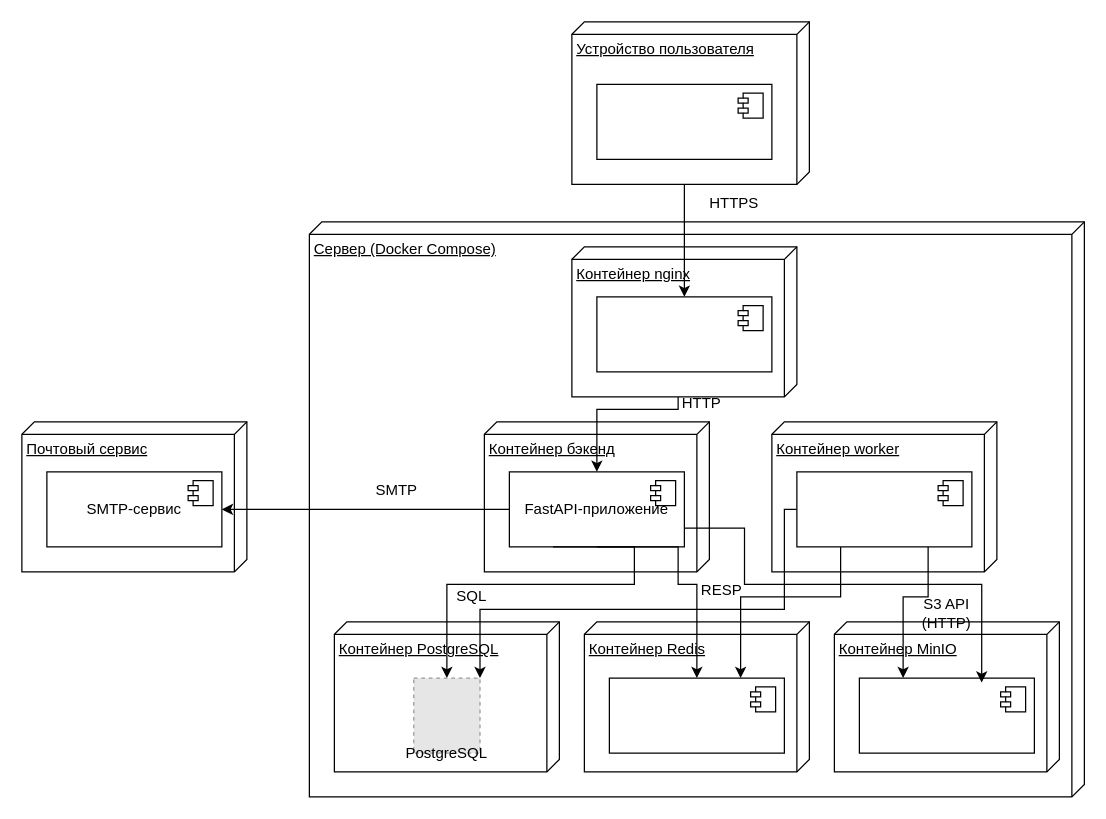
This 1106x819 diagram has some shape labels left out. Grey dashed boxes stand in for pictures. Here are the shapes that lost their labels. From the top down, the centre of each, then its label:
[684,121]: Веб-браузер
[684,334]: nginx
[884,509]: Обработчик проверок
[696,715]: Redis
[946,715]: MinIO
